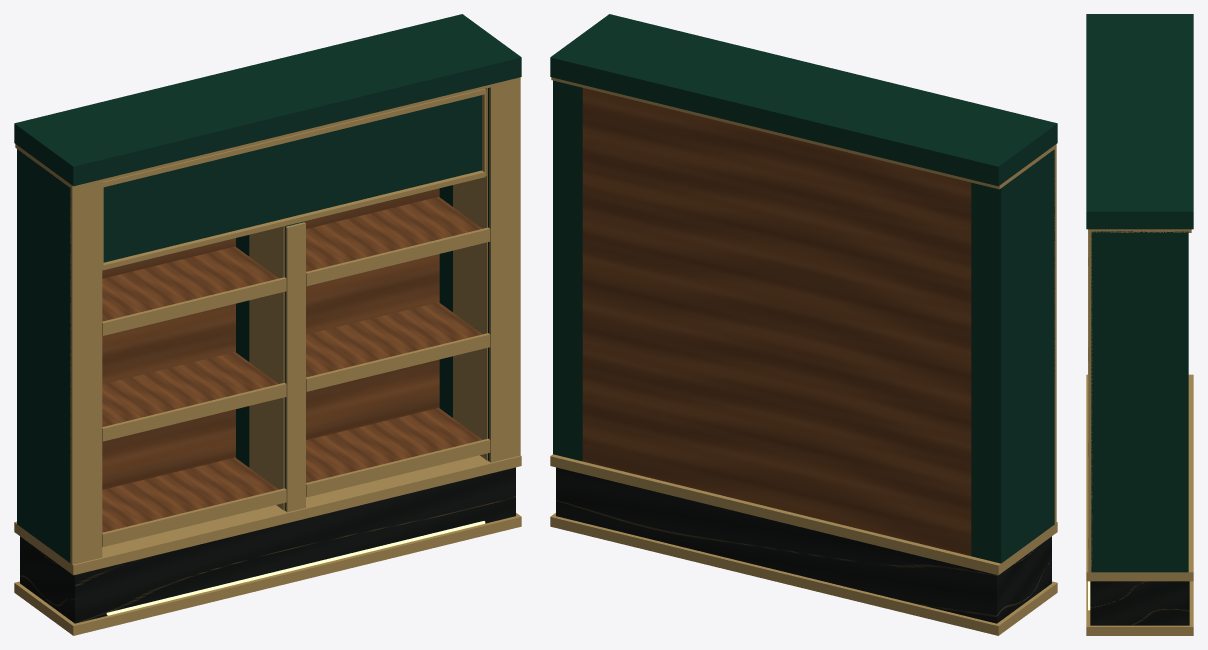
3 views of the same model, side by side, from view 1: azimuth 30°, elevation 25°; view 2: azimuth 150°, elevation 25°; view 3: azimuth 270°, elevation 25° (orthographic). The views are drawn at different scales.
Parts seen in each view (by area): view 1: cabinet_crown, brand_header_panel, cabinet_back, cabinet_stone_base, cabinet_left_pillar, trim_left_front, trim_right_front, trim_base_top, trim_middle_left_lining, trim_right_inner, shelf_3_left, shelf_1_left (+18 smaller); view 2: cabinet_back, cabinet_crown, cabinet_left_pillar, cabinet_stone_base, cabinet_right_pillar, trim_base_top, trim_base_plinth, trim_crown_lip, trim_left_front; view 3: cabinet_right_pillar, cabinet_crown, cabinet_stone_base, trim_base_top, trim_base_plinth, trim_right_front, trim_crown_lip.
Part boxes in pixels (x1,y1,x2,y2): cabinet_crown: (14,14,521,186); brand_header_panel: (103,95,481,262); cabinet_back: (102,188,439,489); cabinet_stone_base: (20,467,515,623); cabinet_left_pillar: (17,149,70,562); trim_left_front: (70,182,102,564); trim_right_front: (489,80,520,462); trim_base_top: (14,455,521,575); trim_middle_left_lining: (249,226,284,510); trim_right_inner: (453,88,487,460); shelf_3_left: (102,246,278,321); shelf_1_left: (102,457,278,532); cabinet_back: (582,88,971,555); cabinet_crown: (550,14,1057,186); cabinet_left_pillar: (971,149,1054,563); cabinet_stone_base: (556,467,1051,623); cabinet_right_pillar: (553,80,582,461); trim_base_top: (550,454,1057,575); trim_base_plinth: (550,513,1057,635); trim_crown_lip: (551,77,1056,189); trim_left_front: (1054,148,1056,523); cabinet_right_pillar: (1091,231,1188,572); cabinet_crown: (1086,14,1193,229); cabinet_stone_base: (1090,581,1189,625); trim_base_top: (1086,374,1193,581); trim_base_plinth: (1086,581,1193,635); trim_right_front: (1088,232,1092,572); trim_crown_lip: (1088,229,1191,232).
Size of the model in its own units: 2.4 by 2.4 by 0.55.
5 materials, 2 textured.
